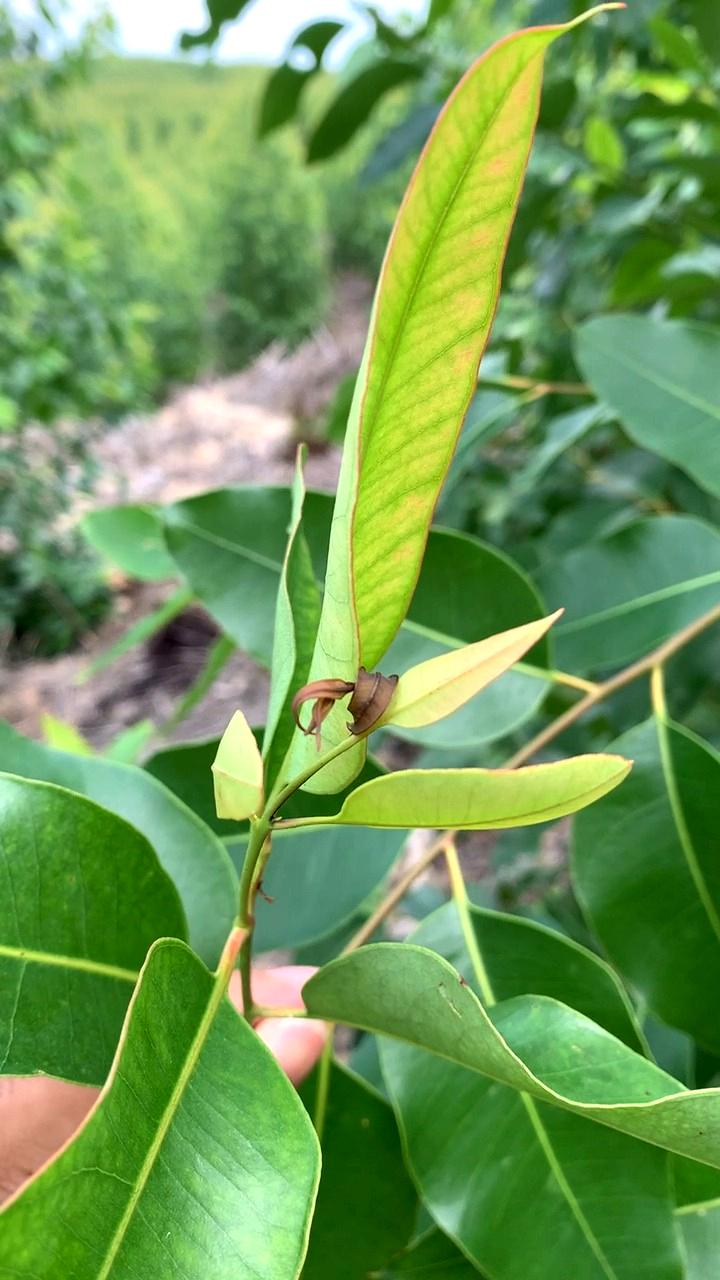Helopeltis-Withered Sprout: (281, 643, 408, 777)
